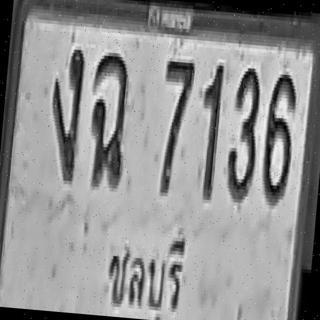A07: (45, 44, 85, 181)
A09: (85, 49, 132, 187)
N01: (195, 60, 225, 198)
N03: (224, 62, 262, 202)
N06: (259, 70, 298, 203)
N07: (155, 56, 195, 196)
P13: (99, 222, 191, 320)
